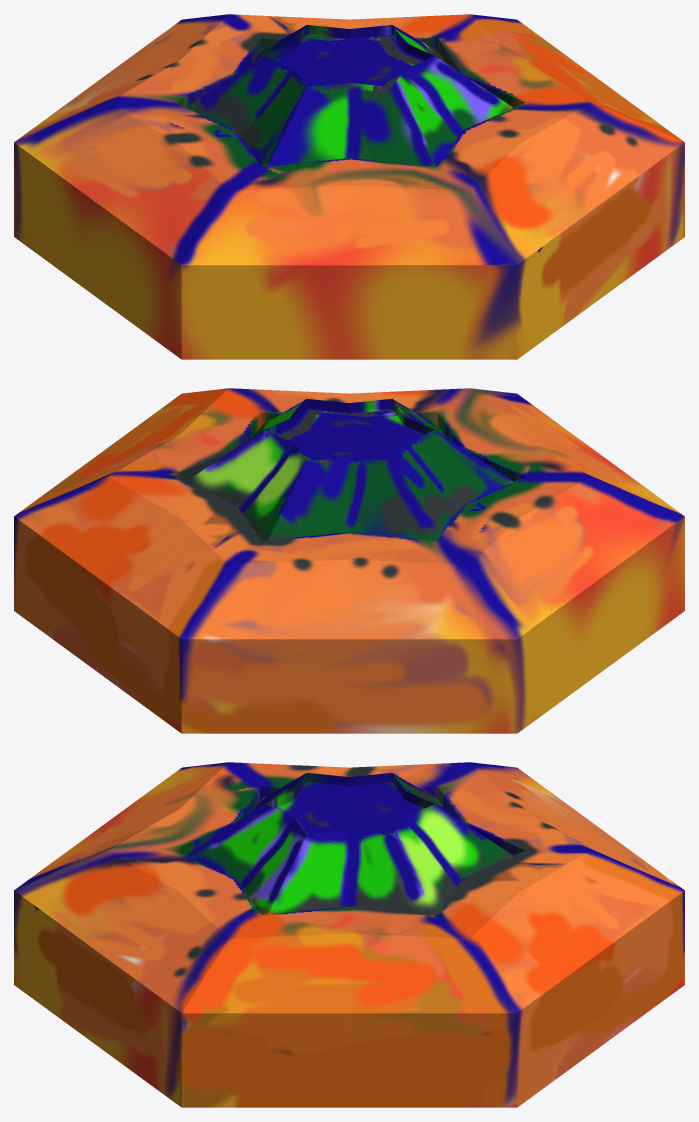
File: blank.glb
The picture shows the model from 3 angles, top to bottom: view 1: azimuth 30°, elevation 25°; view 2: azimuth 150°, elevation 25°; view 3: azimuth 270°, elevation 25°; orthographic projection.
Visible parts, largest first — view 1: Circle.002; view 2: Circle.002; view 3: Circle.002.
Boxes of the visible parts, left/top/right/bottom form: Circle.002: left=14, top=14, right=684, bottom=359; Circle.002: left=14, top=388, right=684, bottom=733; Circle.002: left=14, top=762, right=684, bottom=1107.
Size of the model in its own units: 1.73 by 0.5952 by 2.
Materials: 1 (1 with a texture image).
